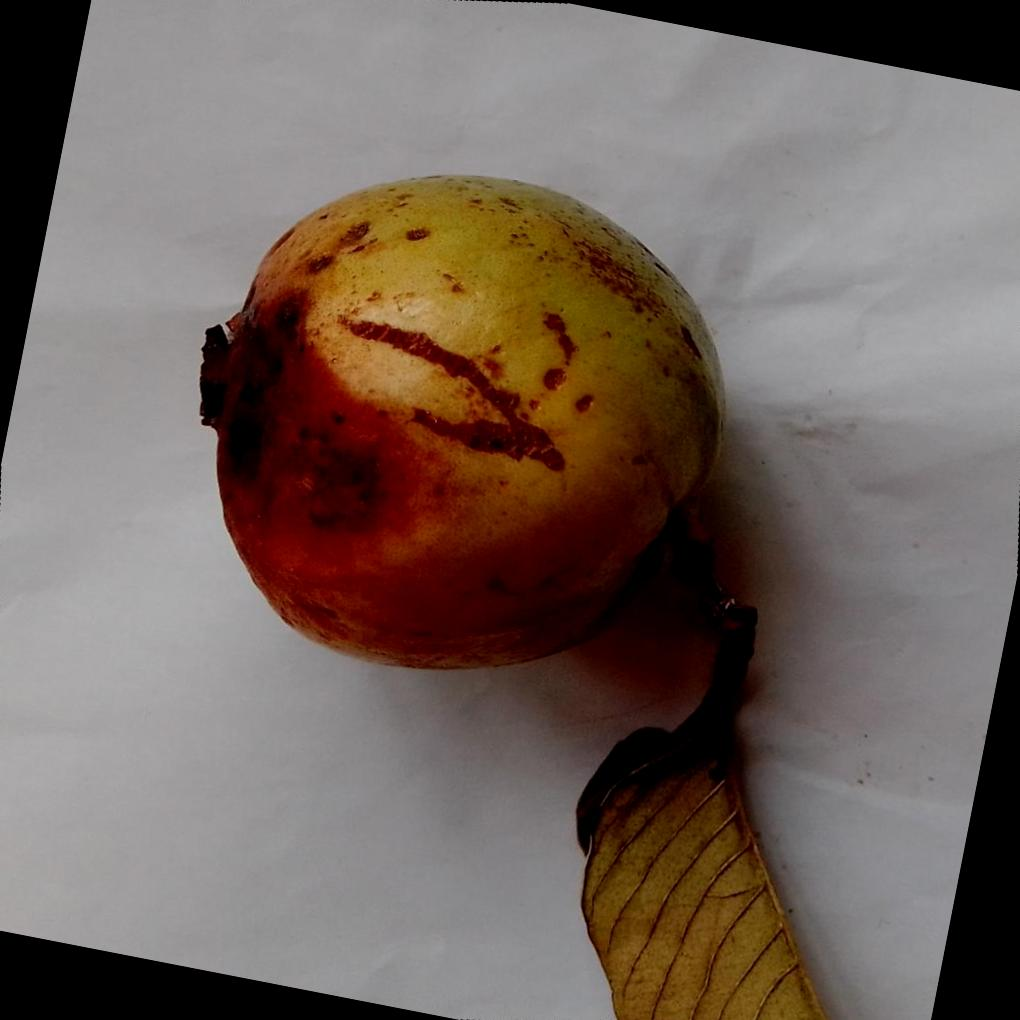FreshOrange: (197, 169, 723, 669)
